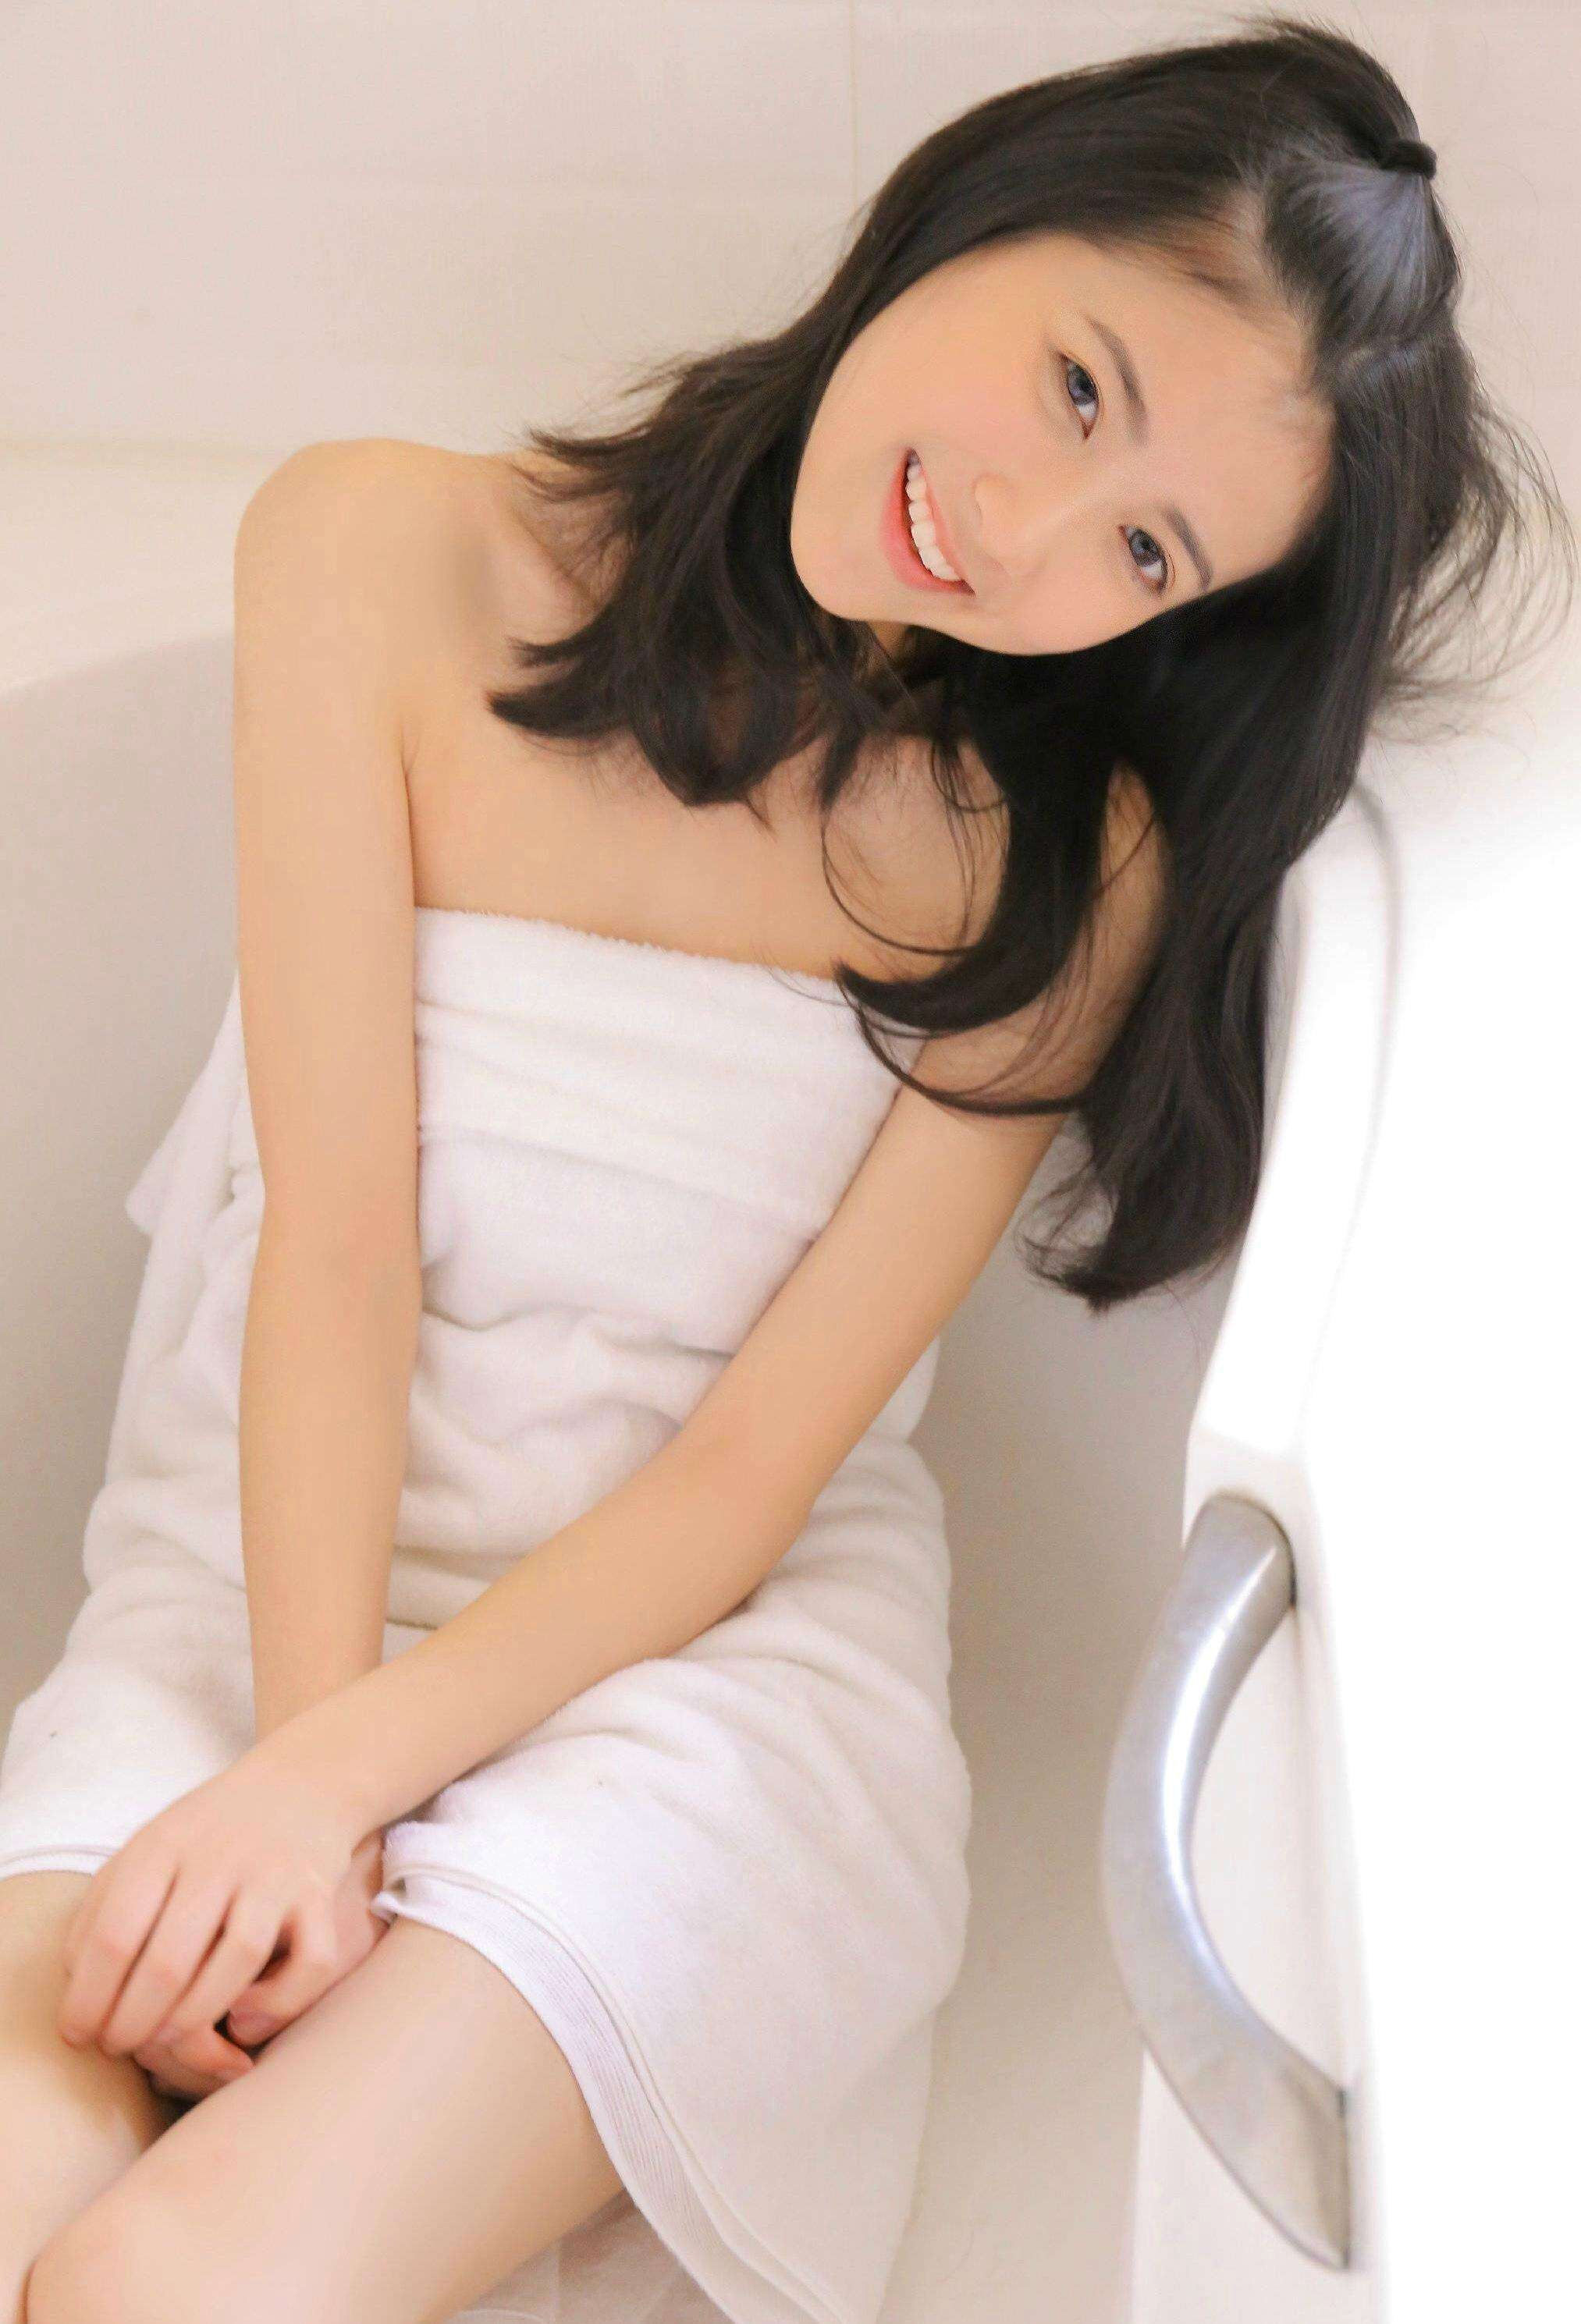person: (195, 80, 1524, 2229)
